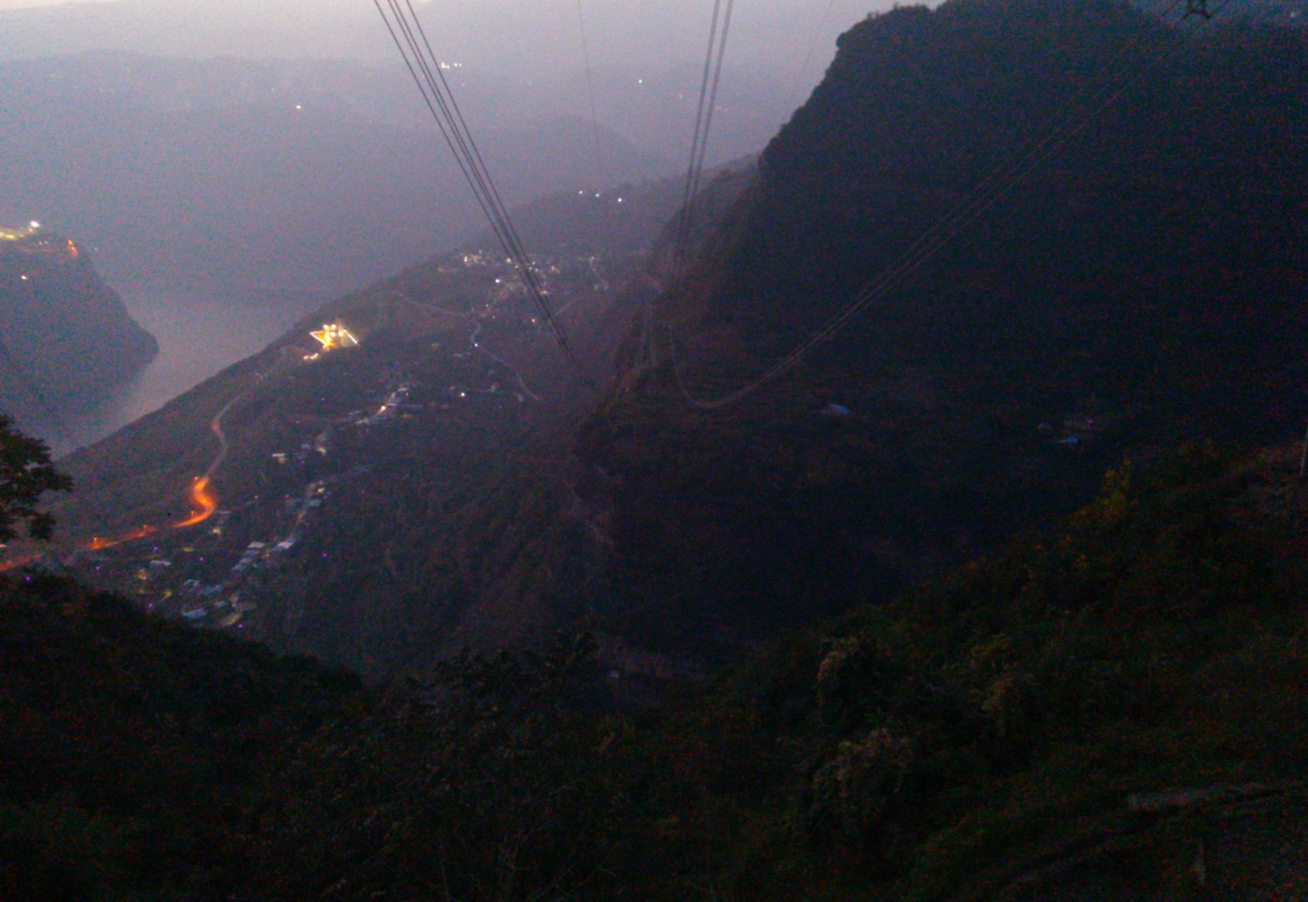山火: (309, 322, 358, 352), (303, 353, 318, 360)
